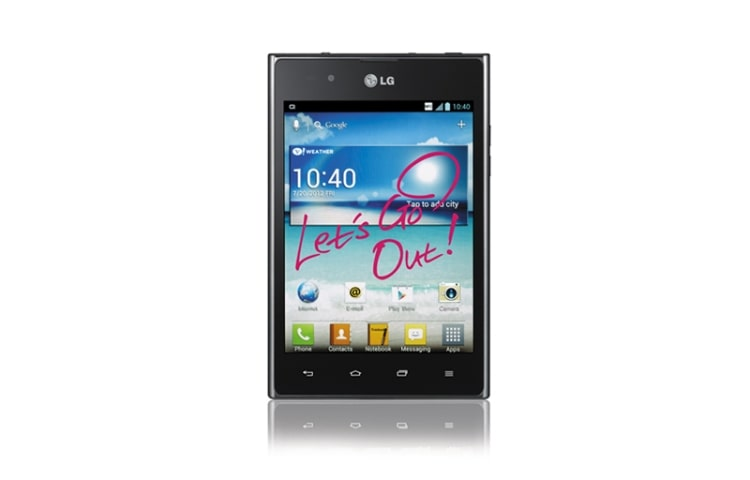Phone: (266, 51, 492, 404)
